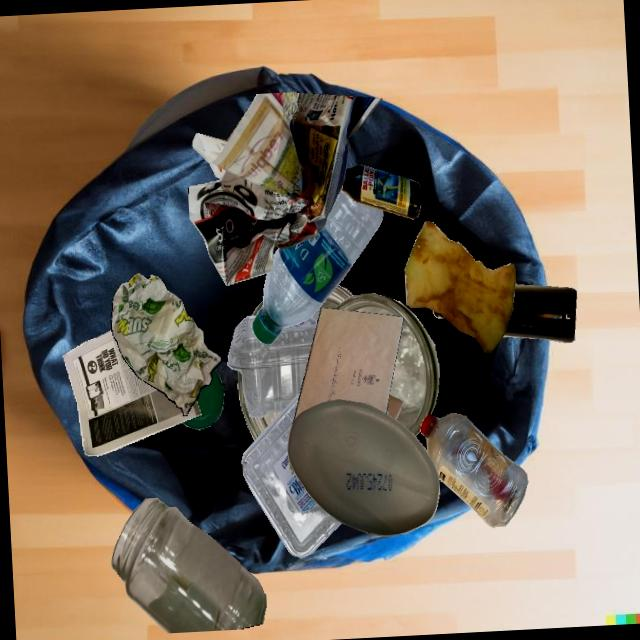biowaste: (404, 221, 516, 352)
cardboard: (387, 395, 403, 420)
glass: (112, 498, 266, 633), (335, 293, 440, 436), (241, 301, 320, 374), (340, 165, 421, 219), (503, 284, 577, 343), (238, 370, 282, 441), (386, 409, 389, 415)
paper: (188, 92, 382, 286), (63, 330, 201, 456), (111, 273, 221, 416), (292, 308, 403, 425)
plastic: (287, 399, 439, 536), (252, 190, 383, 344), (242, 392, 342, 558), (420, 413, 528, 527), (228, 309, 321, 418), (182, 369, 224, 430)
